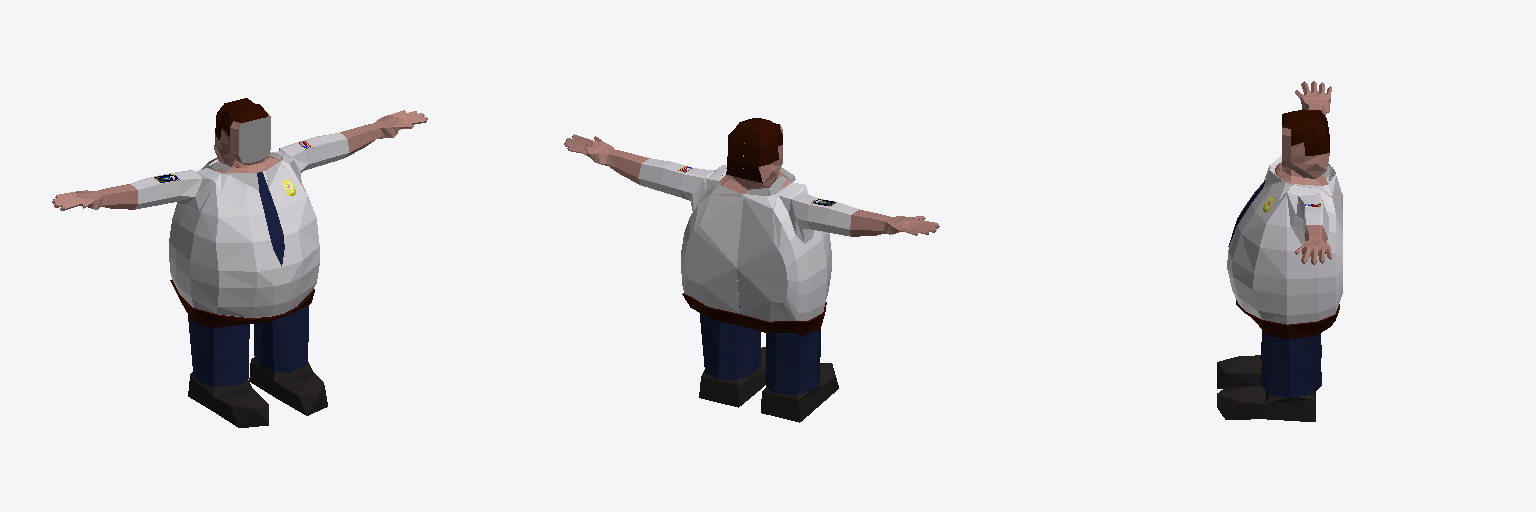
3 views of the same model, side by side, from view 1: azimuth 30°, elevation 25°; view 2: azimuth 150°, elevation 25°; view 3: azimuth 270°, elevation 25° (orthographic).
Parts seen in each view (by area): view 1: Character_Plane.010; view 2: Character_Plane.010; view 3: Character_Plane.010.
Boxes of the visible parts, x1,y1,x2,y2 form: Character_Plane.010: [52, 98, 427, 427]; Character_Plane.010: [564, 118, 939, 422]; Character_Plane.010: [1217, 81, 1342, 421].
Size of the model in its own units: 9.34 by 6.82 by 2.76.
Materials: 5 (2 with a texture image).